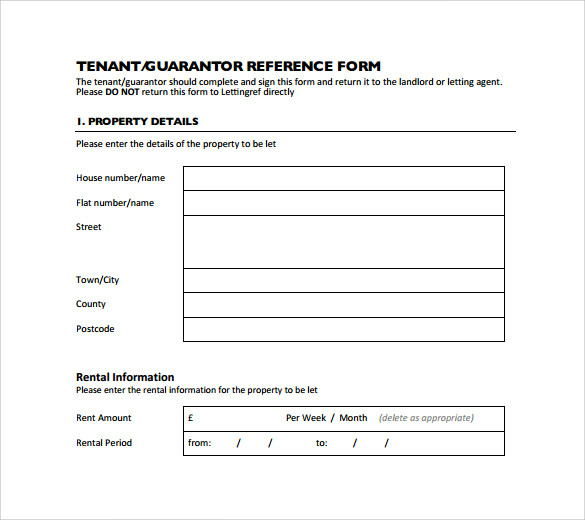textbox: (179, 208, 508, 275), (177, 162, 511, 199), (178, 184, 510, 220), (174, 311, 512, 346), (178, 288, 510, 321), (179, 264, 508, 296), (179, 404, 510, 435), (176, 430, 509, 458), (380, 428, 509, 459), (265, 427, 319, 460), (348, 427, 394, 461), (231, 428, 275, 458), (323, 426, 360, 460), (206, 429, 244, 457)
